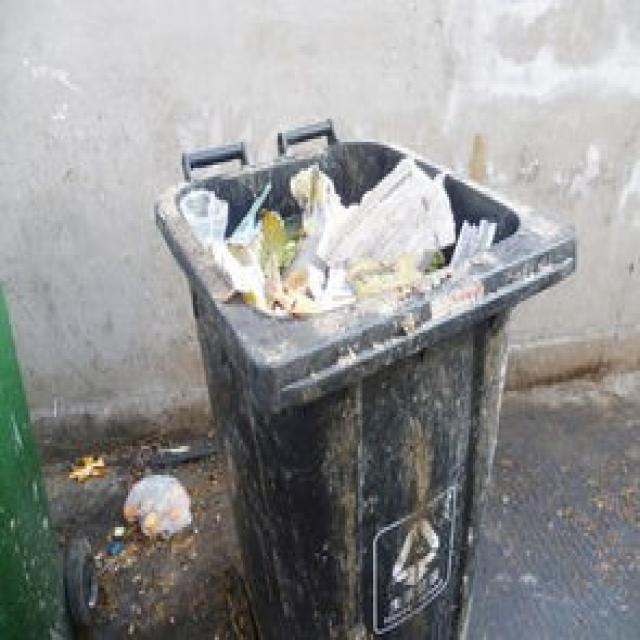garbage: (67, 452, 193, 536)
overflow: (154, 113, 573, 637)
